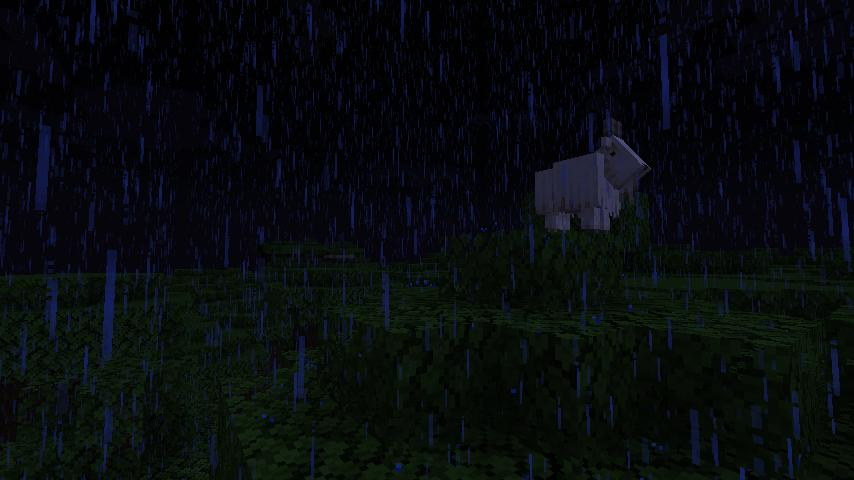goat: (533, 114, 651, 231)
